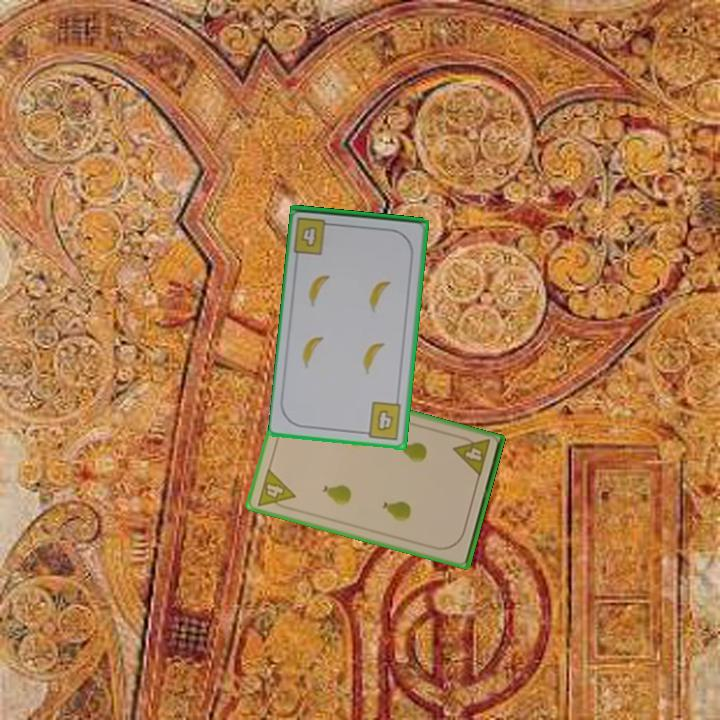4b: (291, 213, 338, 257), (359, 398, 404, 443)
4p: (253, 465, 298, 513), (450, 432, 493, 480)
